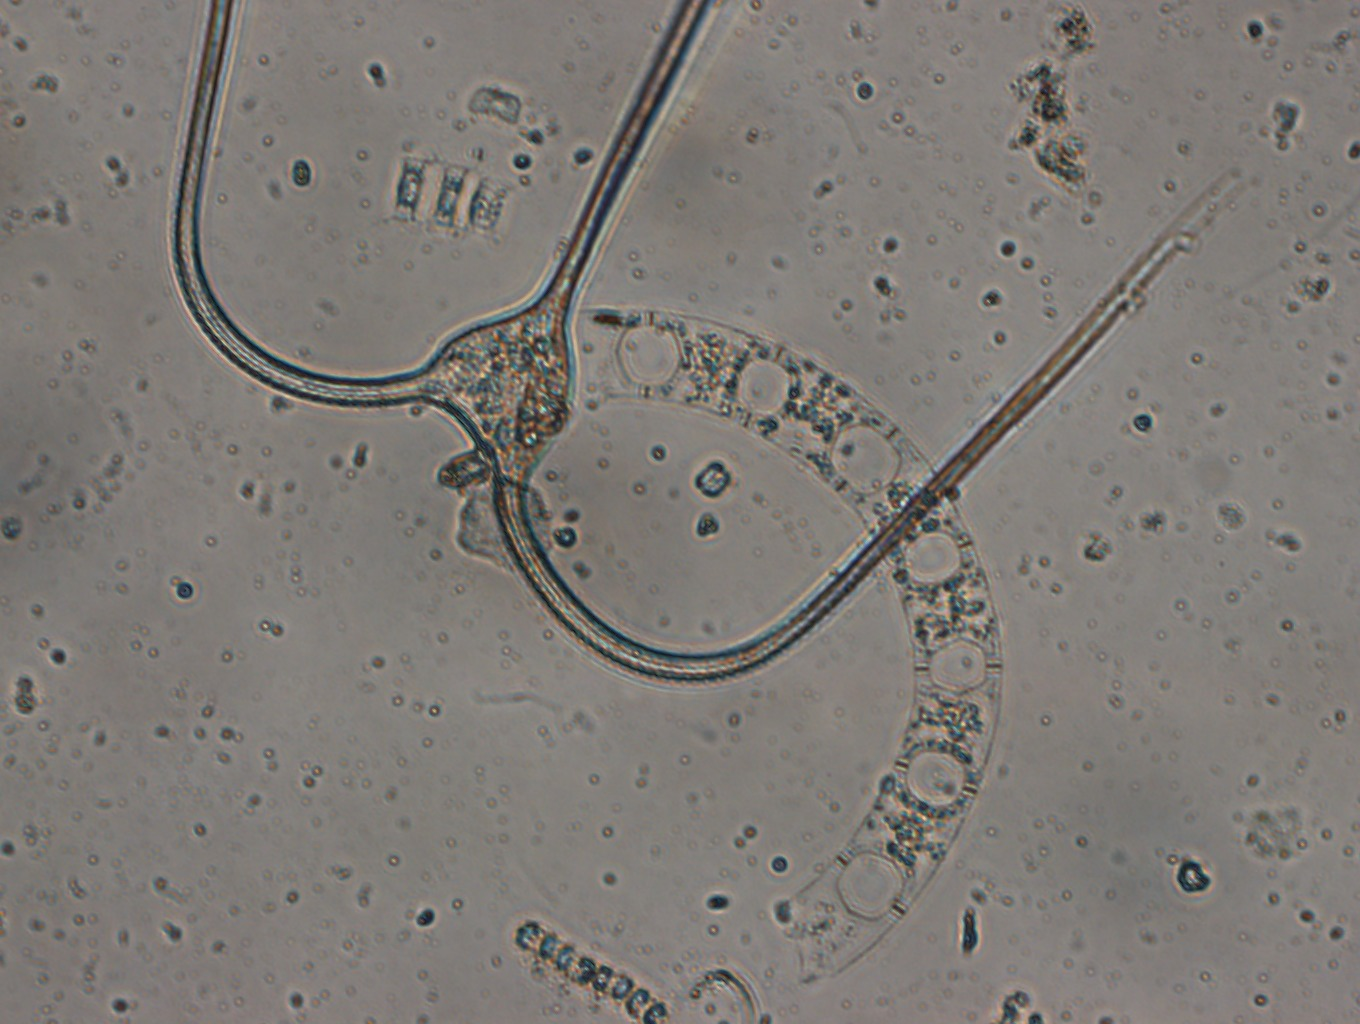ceratium trichoceros: (164, 6, 1243, 686)
eucampia: (573, 300, 1004, 986)
skeletonema: (511, 918, 679, 1024)
